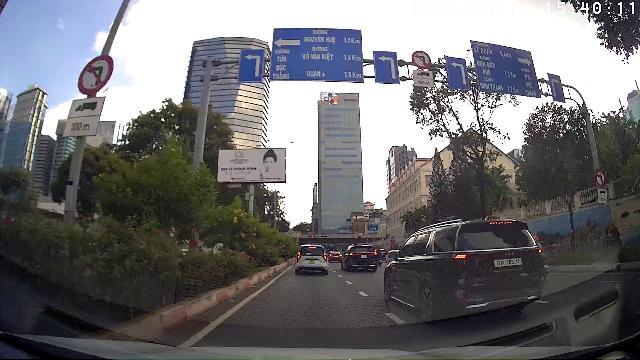123a-cam-re-trai: (76, 54, 114, 94), (412, 49, 432, 69), (596, 170, 606, 186)
